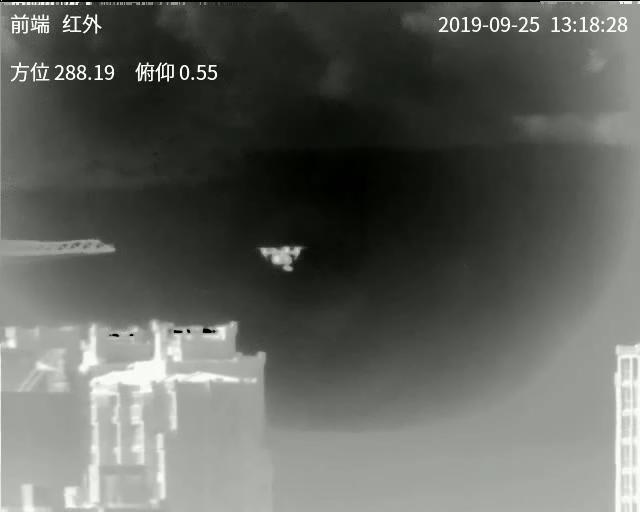uav: (259, 243, 304, 274)
